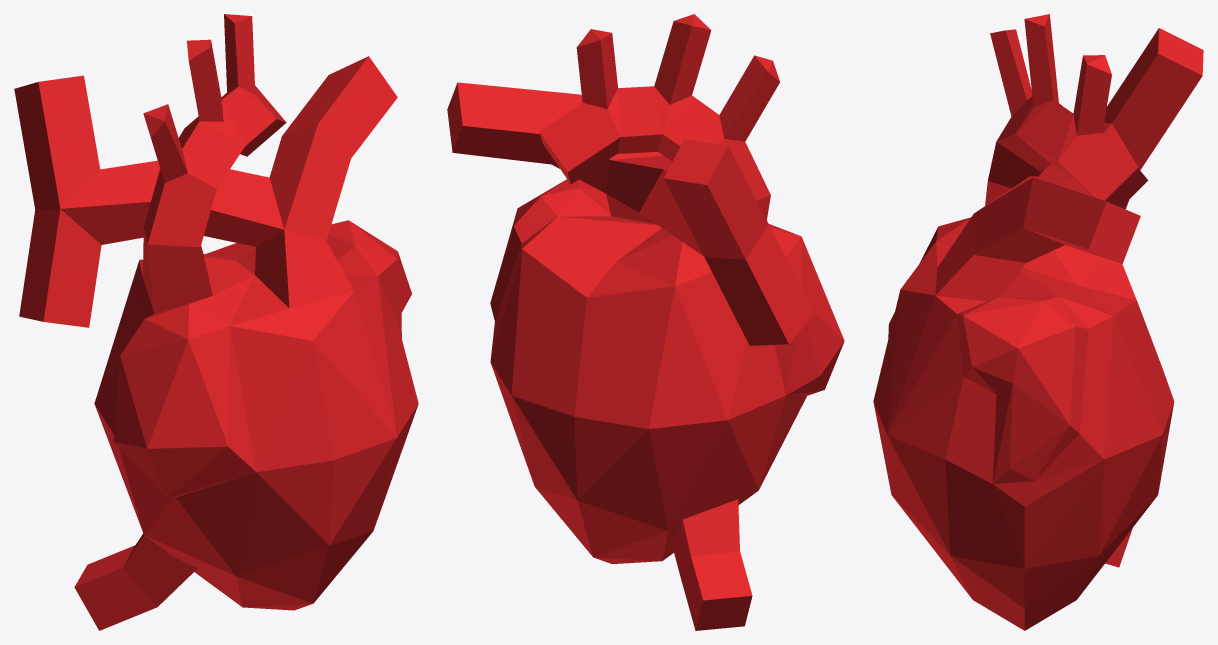
Rendered from heart.FBX.
The picture shows the model from 3 angles, left to right: view 1: azimuth 30°, elevation 25°; view 2: azimuth 150°, elevation 25°; view 3: azimuth 270°, elevation 25°; orthographic projection. The views are drawn at different scales.
Parts seen in each view (by area): view 1: heart; view 2: heart; view 3: heart.
Boxes of the visible parts, box(x1,y1,x2,y2) form: heart: box(14, 14, 418, 630); heart: box(447, 14, 844, 630); heart: box(873, 14, 1203, 630).
Size of the model in its own units: 0.3692 by 0.5656 by 0.2952.
